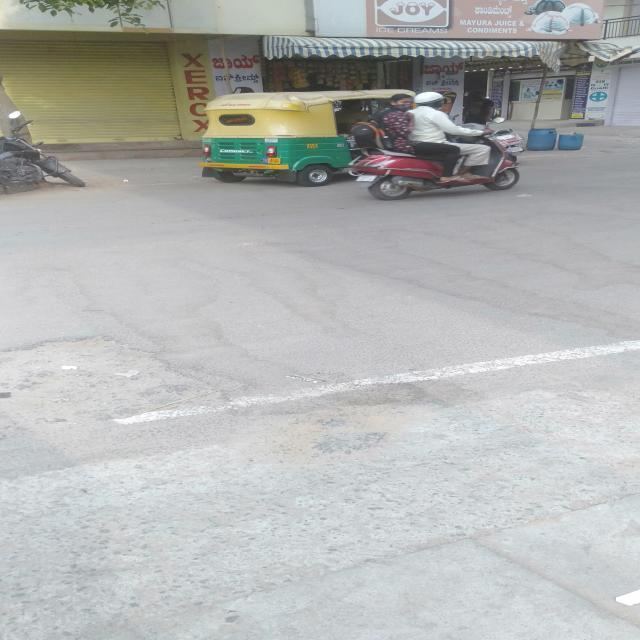auto_back: (193, 84, 429, 196)
two_wheeler_back: (341, 112, 528, 202)
